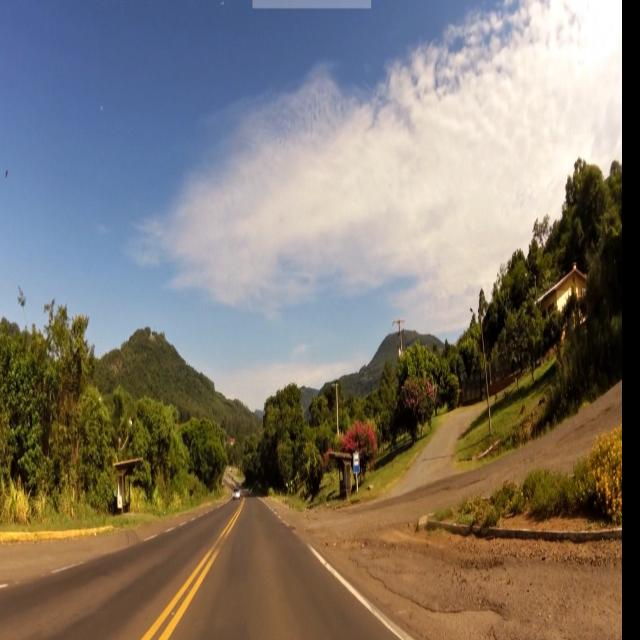S-14: (353, 453, 360, 474)
